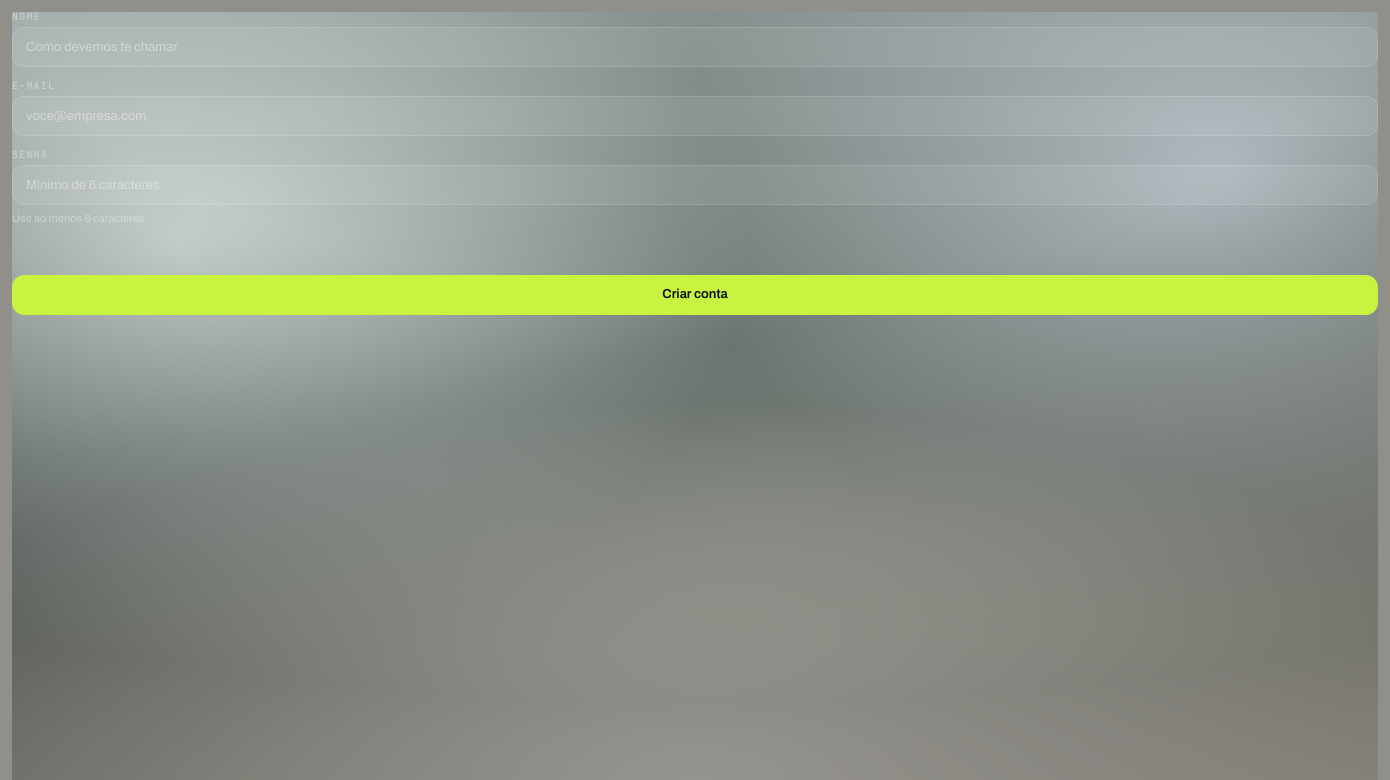
RegisterForm › degrada para uma mensagem genérica quando a rota falha
The image size is (1390, 780).
Type "Maria Souza" into the field labelled "Nome" at [695, 47], box [12,27,1378,67]
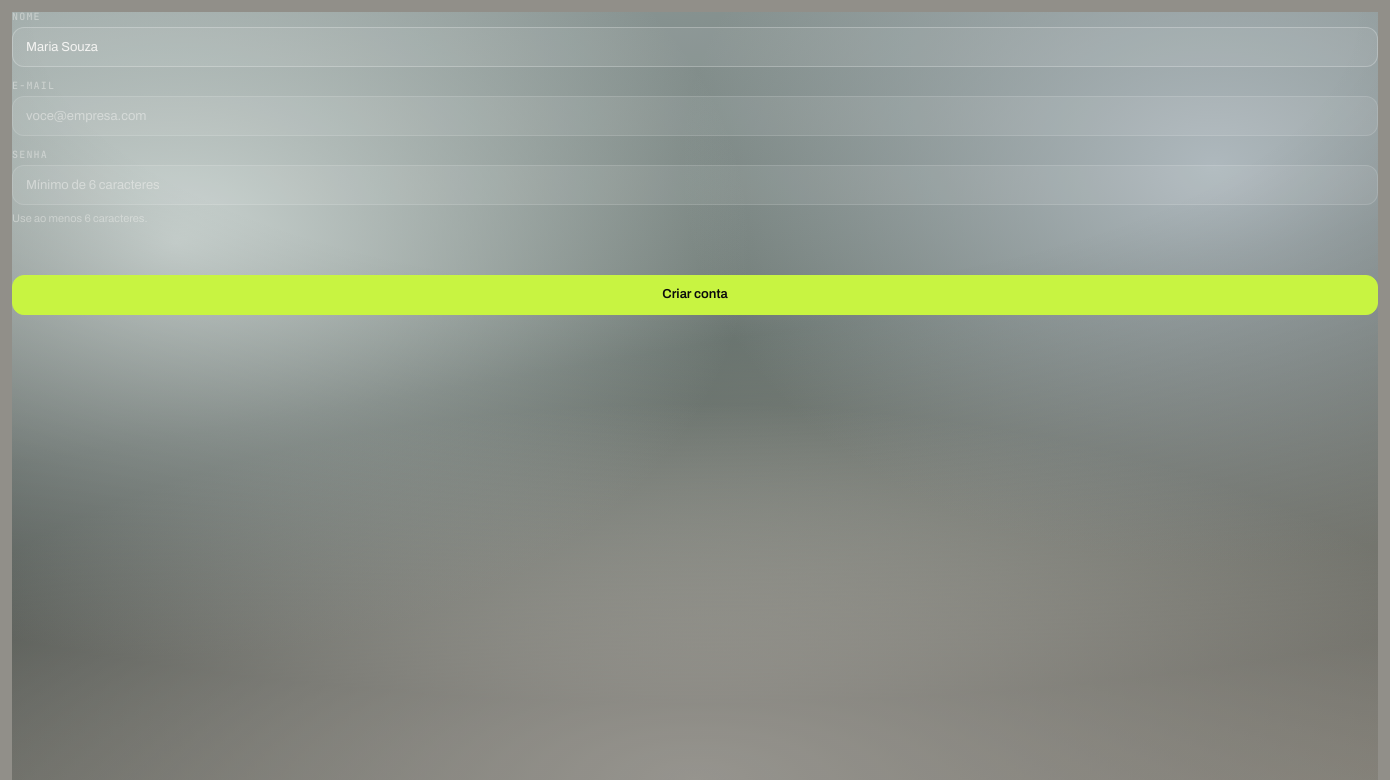
Type "novo@empresa.com" into the field labelled "E-mail" at [695, 116], box [12,96,1378,136]
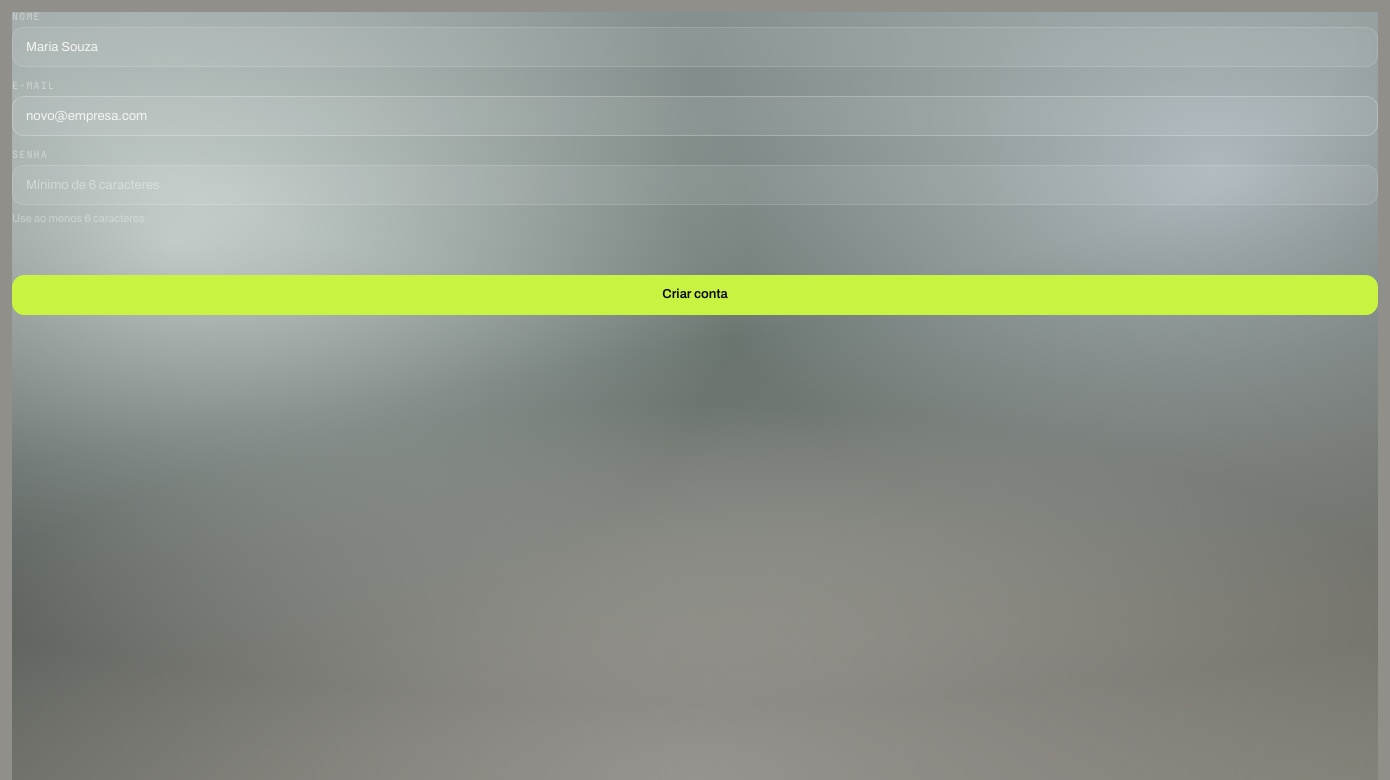
Type "senha-forte-1" into the password field labelled "Senha" at [695, 185], box [12,165,1378,205]
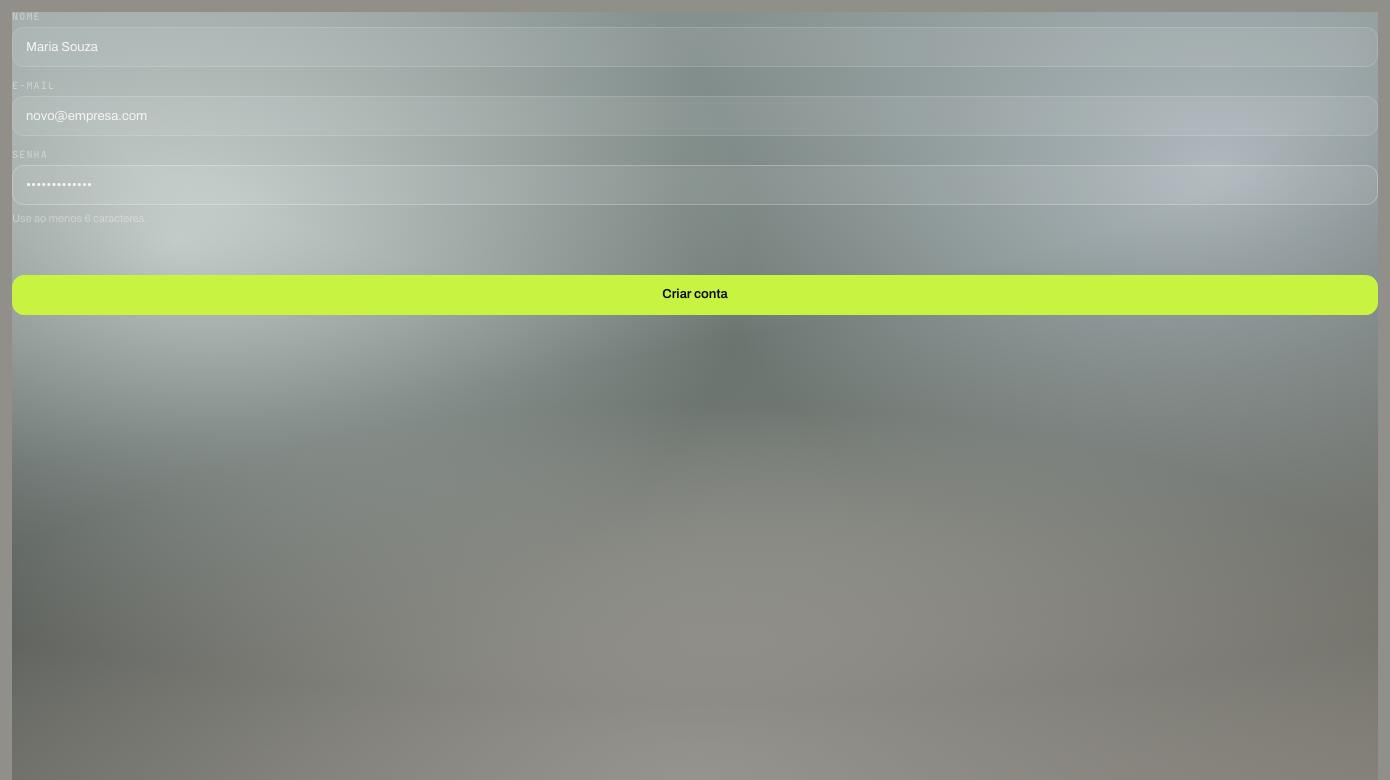
Click the button "Criar conta" at [695, 294], box [12,274,1378,314]
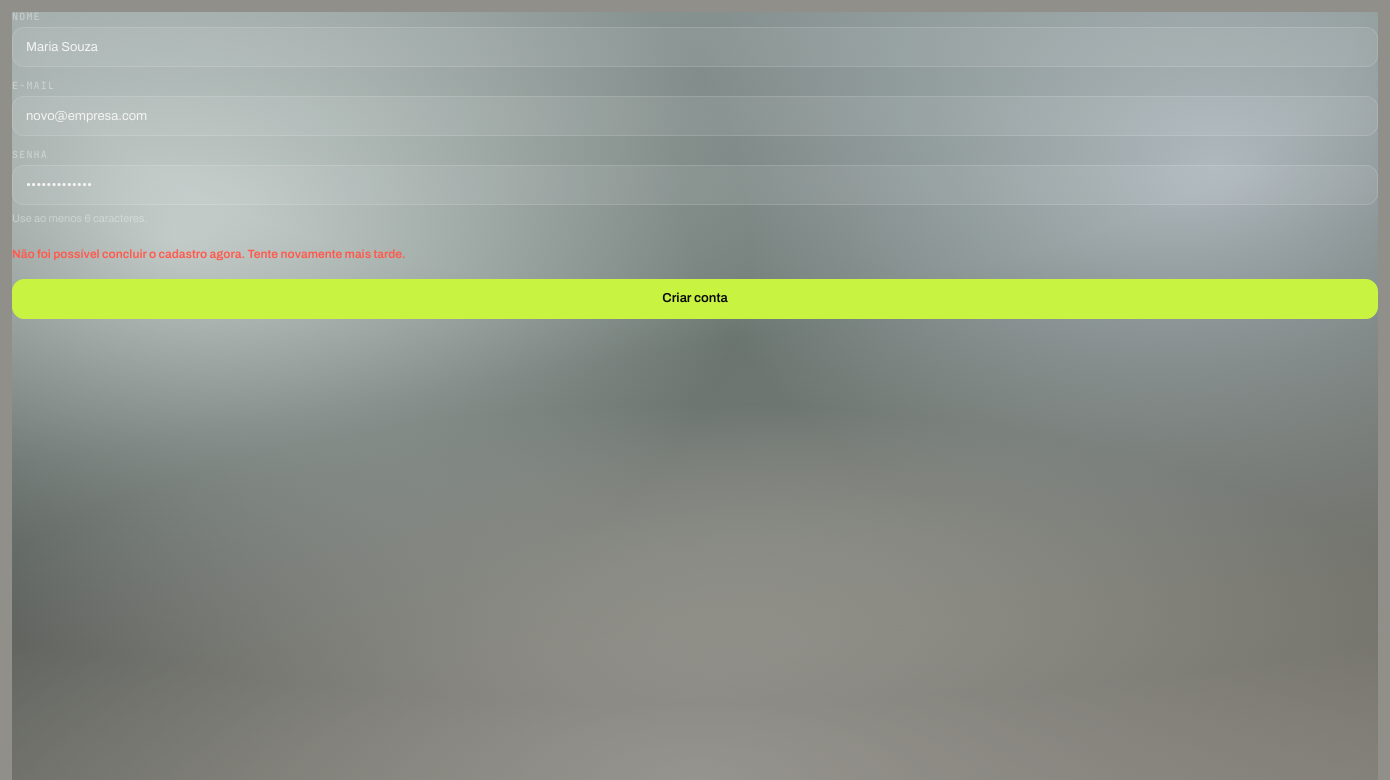
Check: the text "Não foi possível concluir o cadastro agora. Tente novamente mais tarde." is shown, box [12,246,406,260]
